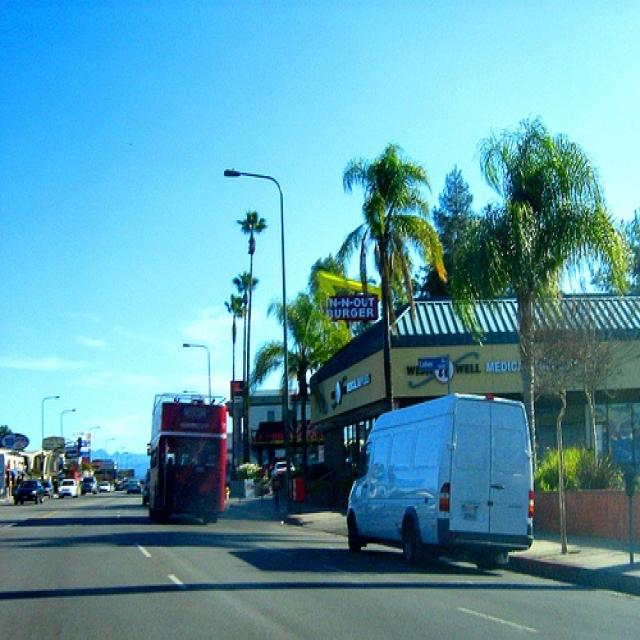bus: (148, 388, 222, 530)
car: (344, 391, 535, 569), (13, 477, 45, 508), (55, 474, 79, 501)
